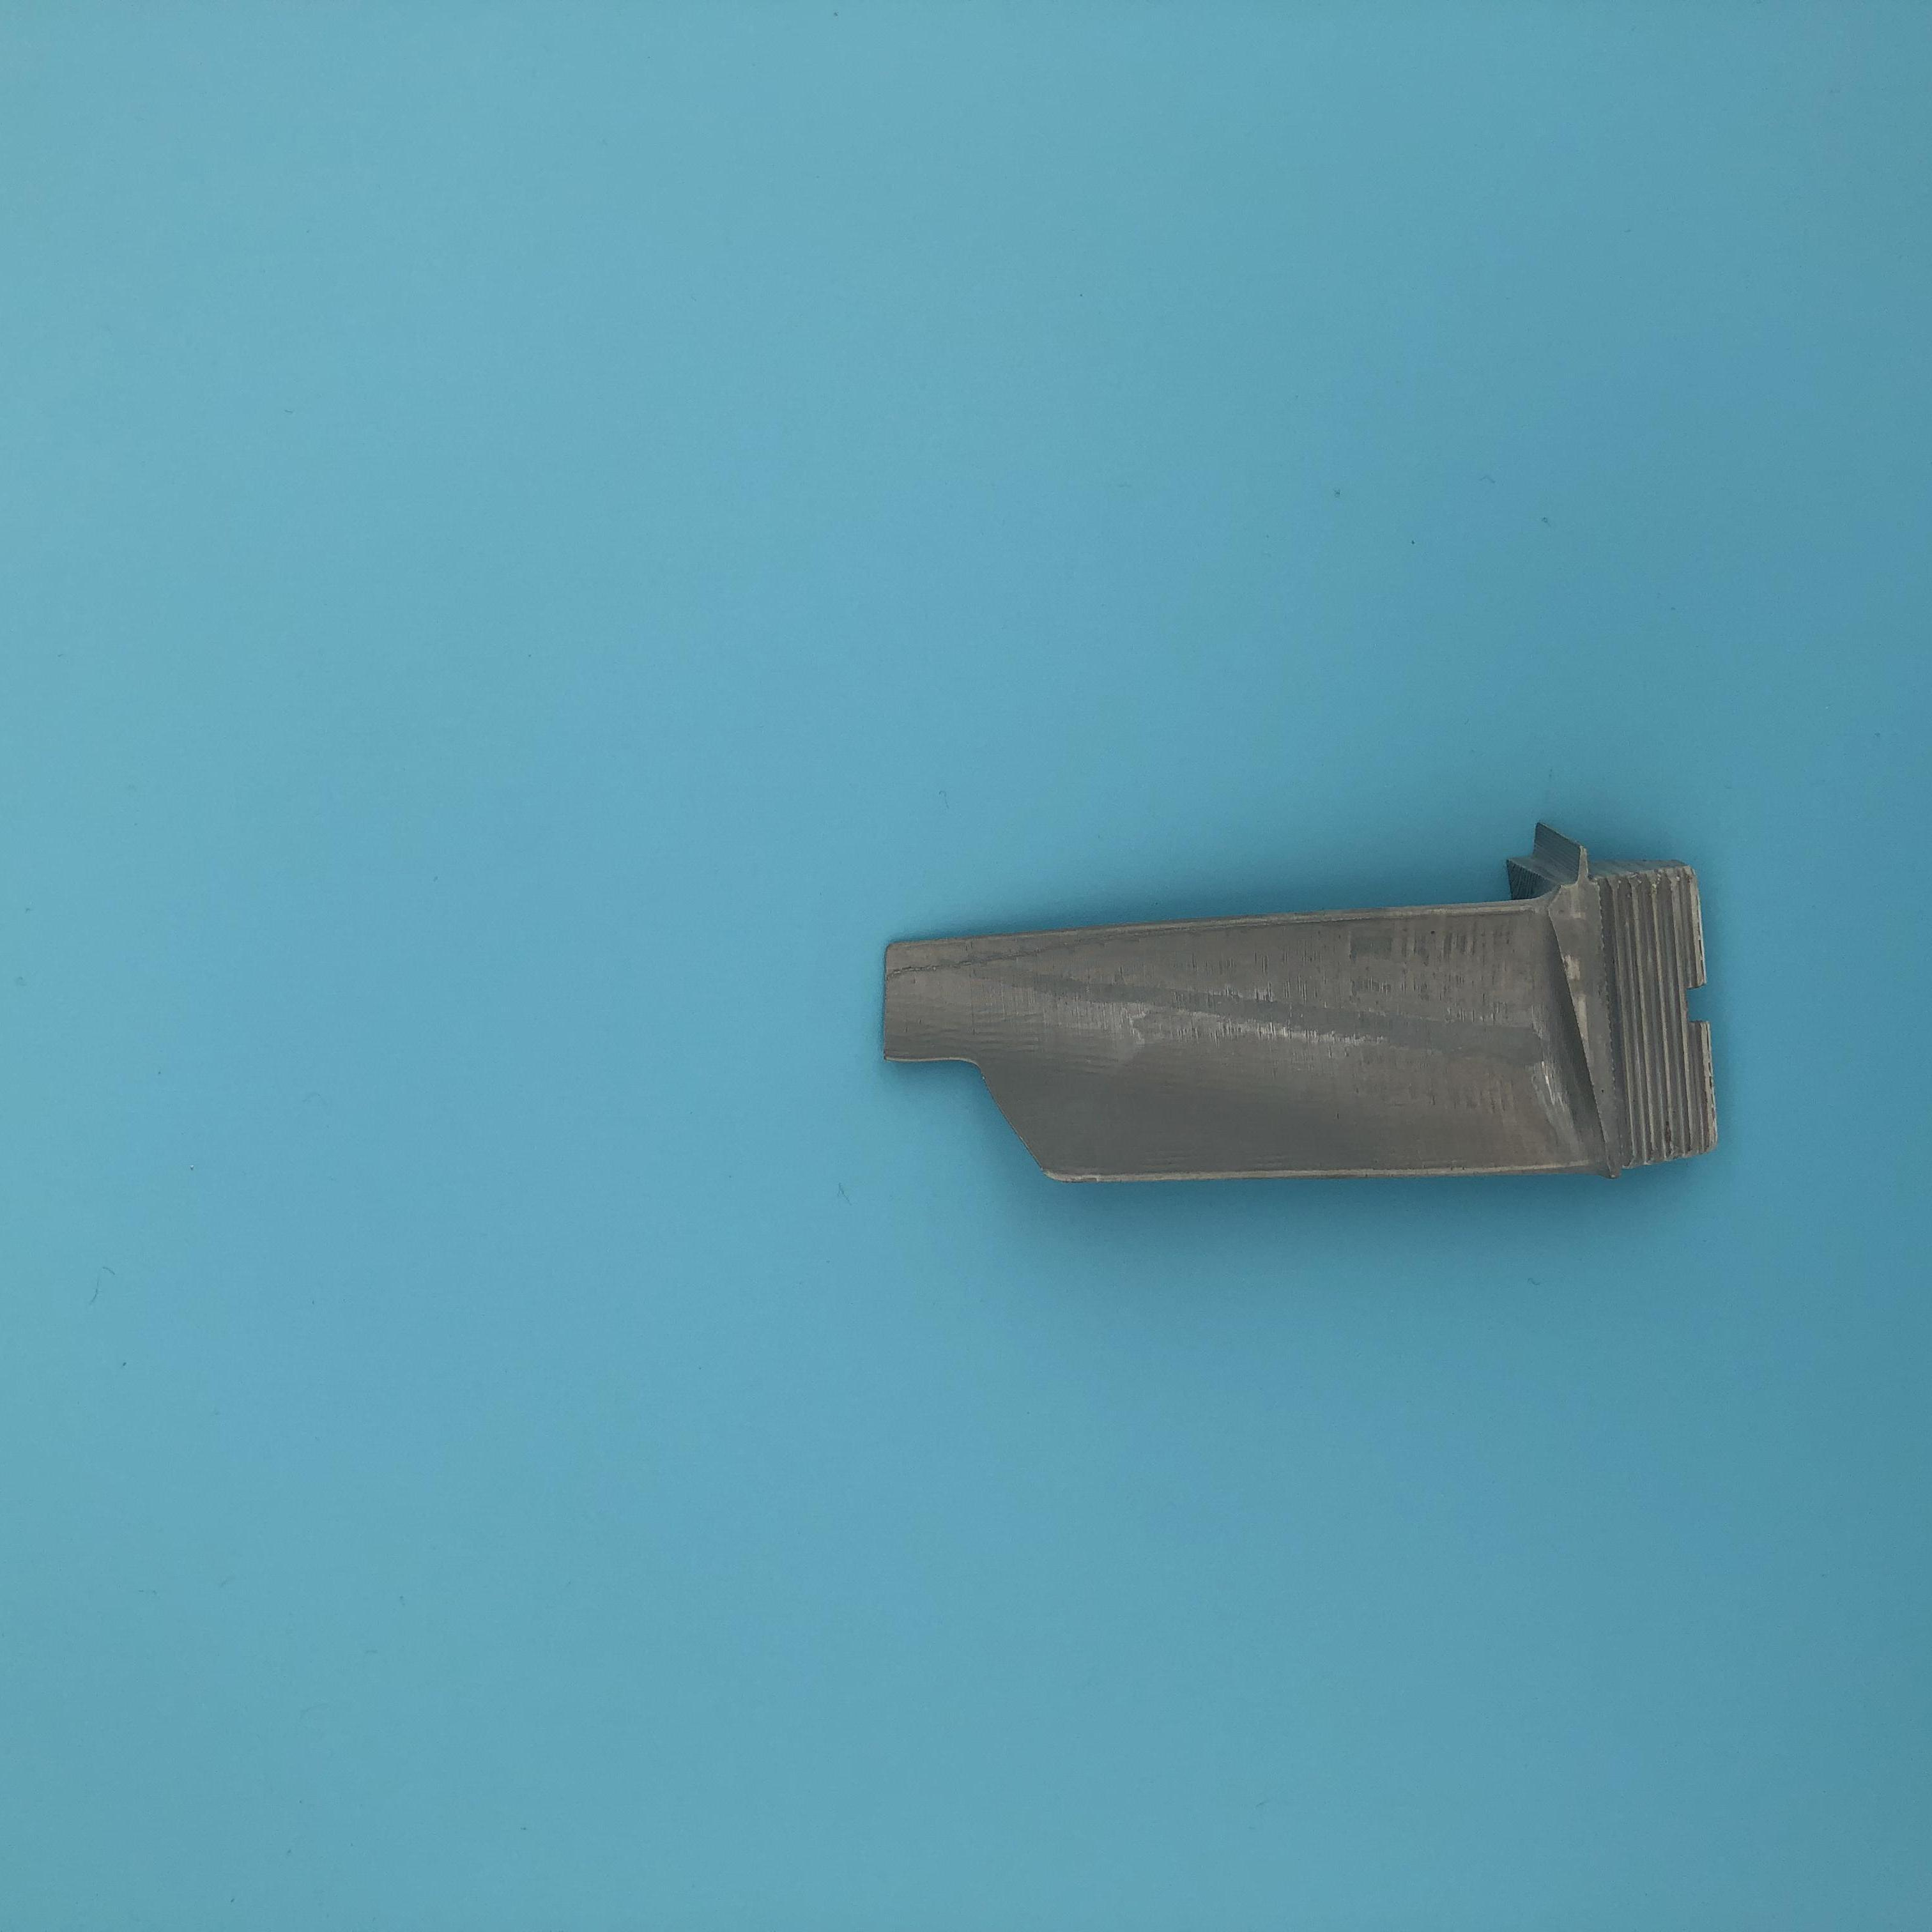fracture: (885, 1017, 1081, 1182)
